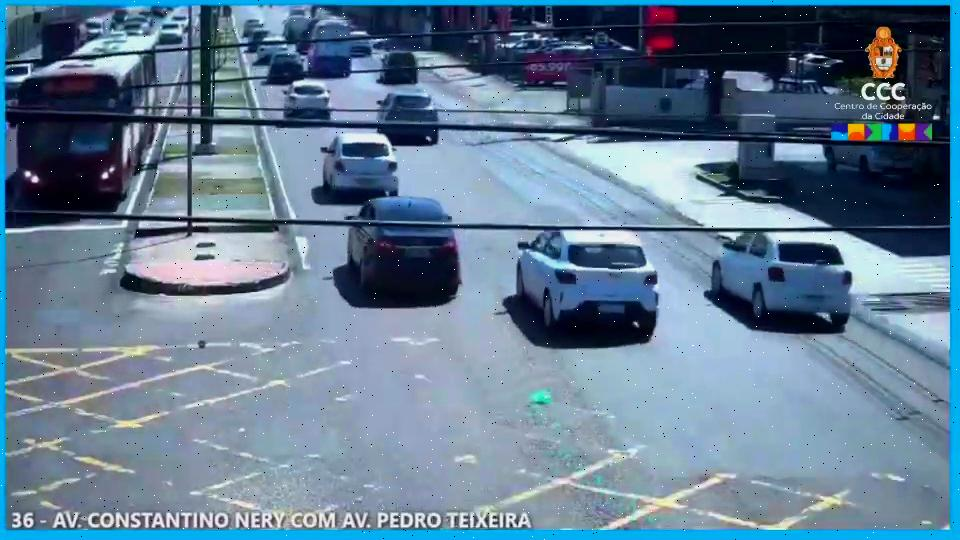car: (508, 218, 660, 341), (707, 222, 856, 333), (341, 190, 465, 300), (320, 129, 400, 198), (373, 89, 441, 146), (278, 78, 336, 124), (378, 51, 418, 82), (157, 18, 184, 52)
truck: (18, 38, 161, 207)
